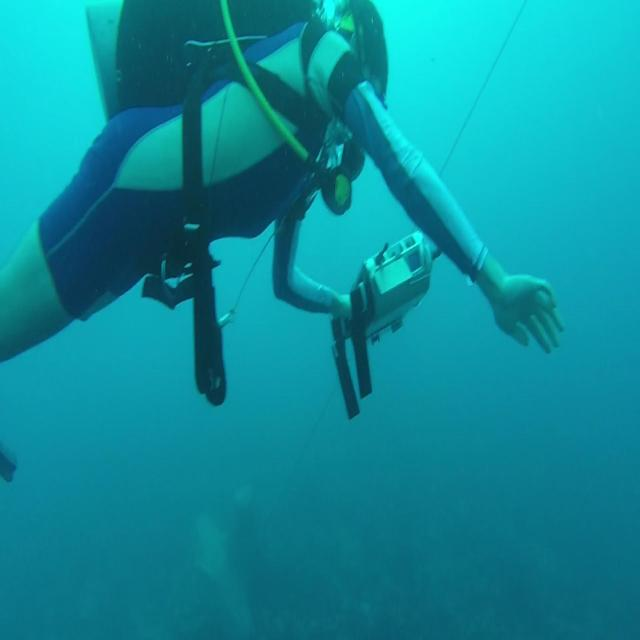human: (1, 0, 564, 415)
